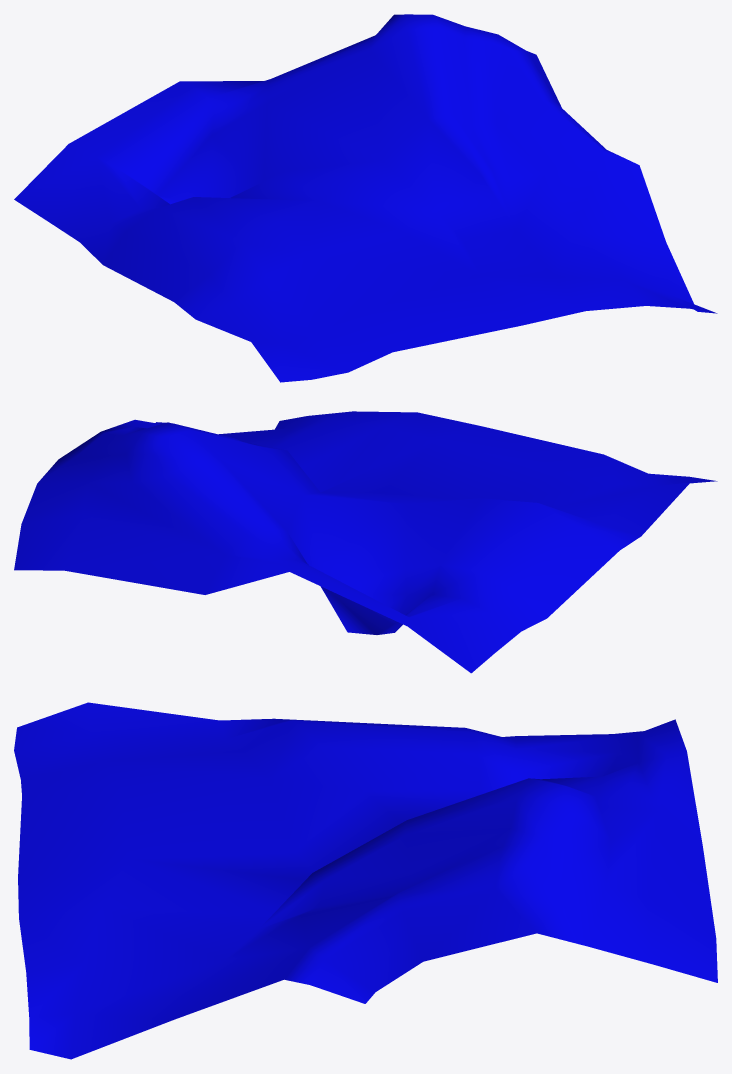
The model's file is CavernWall02.fbx.
The picture shows the model from 3 angles, top to bottom: view 1: azimuth 30°, elevation 25°; view 2: azimuth 150°, elevation 25°; view 3: azimuth 270°, elevation 25°; orthographic projection. The views are drawn at different scales.
Visible parts, largest first — view 1: ndWAllsHighPoly3:Group10; view 2: ndWAllsHighPoly3:Group10; view 3: ndWAllsHighPoly3:Group10.
Part boxes in pixels (<box>): ndWAllsHighPoly3:Group10: <box>14,14,717,382</box>; ndWAllsHighPoly3:Group10: <box>14,411,717,673</box>; ndWAllsHighPoly3:Group10: <box>14,702,717,1059</box>.
Bounding box in the file's own units: 24.24 × 8.51 × 25.03.
